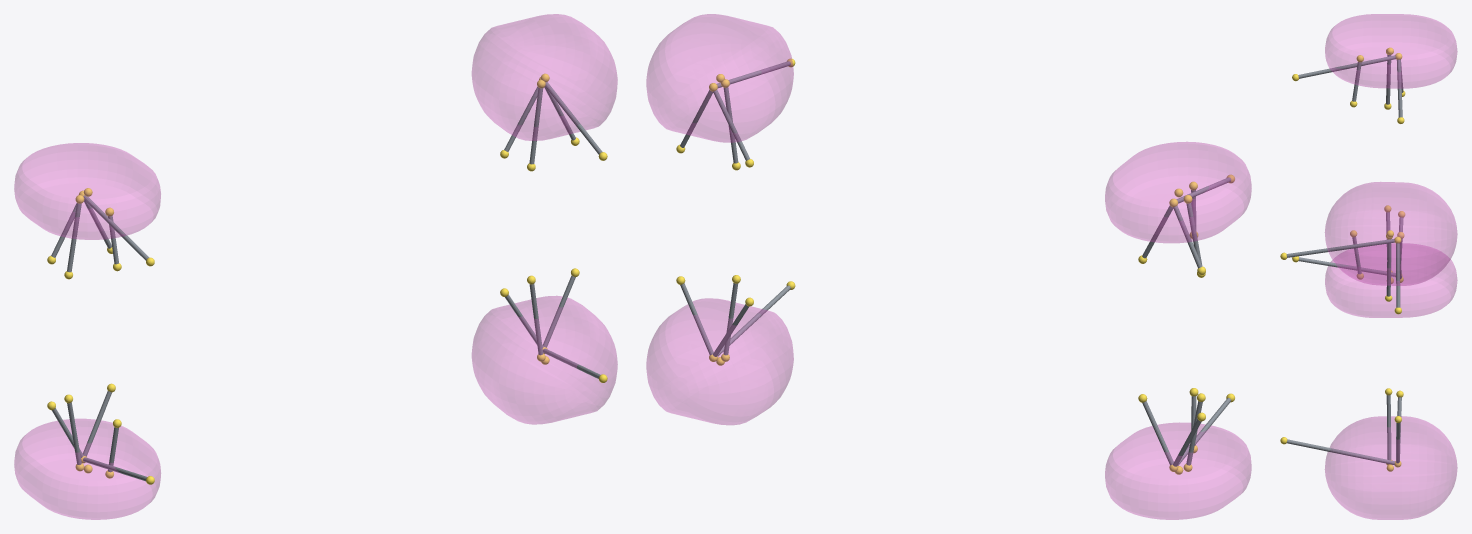
The model's file is modern_car_v2_aero_suspension_kinematics.glb.
3 views of the same model, side by side, from view 1: azimuth 30°, elevation 25°; view 2: azimuth 150°, elevation 25°; view 3: azimuth 270°, elevation 25° (orthographic). The views are drawn at different scales.
Visible parts, largest first — view 1: tyre_sweep_front_right, tyre_sweep_front_left, tyre_sweep_rear_right, tyre_sweep_rear_left; view 2: tyre_sweep_front_right, tyre_sweep_front_left, tyre_sweep_rear_right, tyre_sweep_rear_left; view 3: tyre_sweep_front_right, tyre_sweep_front_left, tyre_sweep_rear_right, tyre_sweep_rear_left, link_front_left_strut_top_ball_joint, link_front_right_strut_top_ball_joint, link_rear_right_damper_top_lower_link_outer, link_rear_left_damper_top_lower_link_outer, link_front_left_tie_rod_inner_tie_rod_outer, link_front_right_lower_arm_front_inner_ball_joint, link_rear_right_lower_link_front_inner_lower_link_outer, link_front_right_tie_rod_inner_tie_rod_outer.
Boxes of the visible parts, x1=… form: tyre_sweep_front_right: x1=472, y1=14, x2=617, y2=140; tyre_sweep_front_left: x1=472, y1=296, x2=617, y2=424; tyre_sweep_rear_right: x1=14, y1=143, x2=160, y2=239; tyre_sweep_rear_left: x1=14, y1=419, x2=160, y2=519; tyre_sweep_front_right: x1=646, y1=14, x2=793, y2=142; tyre_sweep_front_left: x1=646, y1=298, x2=793, y2=424; tyre_sweep_rear_right: x1=1105, y1=142, x2=1251, y2=242; tyre_sweep_rear_left: x1=1105, y1=422, x2=1251, y2=519; tyre_sweep_front_right: x1=1325, y1=182, x2=1457, y2=285; tyre_sweep_front_left: x1=1325, y1=416, x2=1457, y2=519; tyre_sweep_rear_right: x1=1325, y1=14, x2=1457, y2=88; tyre_sweep_rear_left: x1=1325, y1=243, x2=1457, y2=317; link_front_left_strut_top_ball_joint: x1=1287, y1=439, x2=1395, y2=464; link_front_right_strut_top_ball_joint: x1=1286, y1=238, x2=1394, y2=257; link_rear_right_damper_top_lower_link_outer: x1=1298, y1=55, x2=1395, y2=78; link_rear_left_damper_top_lower_link_outer: x1=1298, y1=257, x2=1395, y2=276; link_front_left_tie_rod_inner_tie_rod_outer: x1=1386, y1=395, x2=1391, y2=460; link_front_right_lower_arm_front_inner_ball_joint: x1=1396, y1=243, x2=1400, y2=307; link_rear_right_lower_link_front_inner_lower_link_outer: x1=1396, y1=59, x2=1402, y2=117; link_front_right_tie_rod_inner_tie_rod_outer: x1=1386, y1=239, x2=1391, y2=296.
Size of the model in its own units: 3.29 by 2.05 by 1.06.
